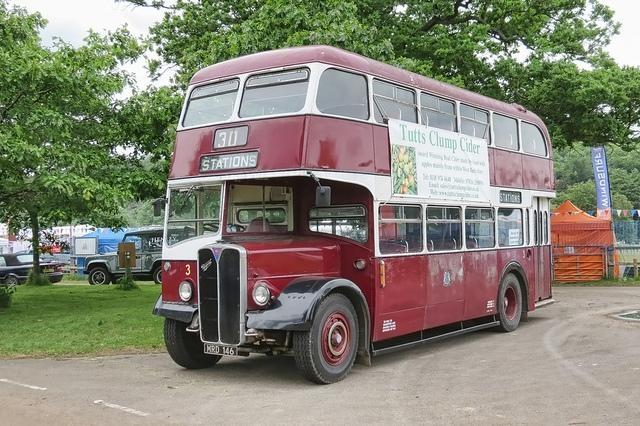bus: (154, 46, 553, 382)
car: (86, 226, 160, 288), (0, 253, 57, 289), (38, 240, 64, 255)
truck: (82, 228, 165, 286)
